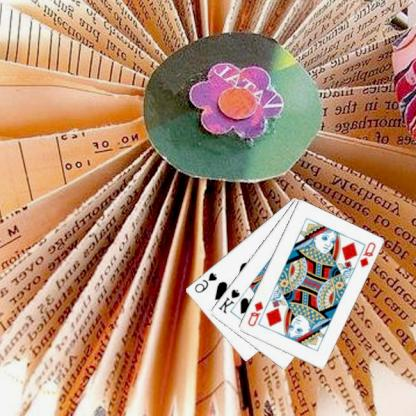9S: (193, 270, 220, 294)
KS: (217, 286, 243, 315)
QD: (358, 239, 379, 269), (246, 298, 266, 328)
